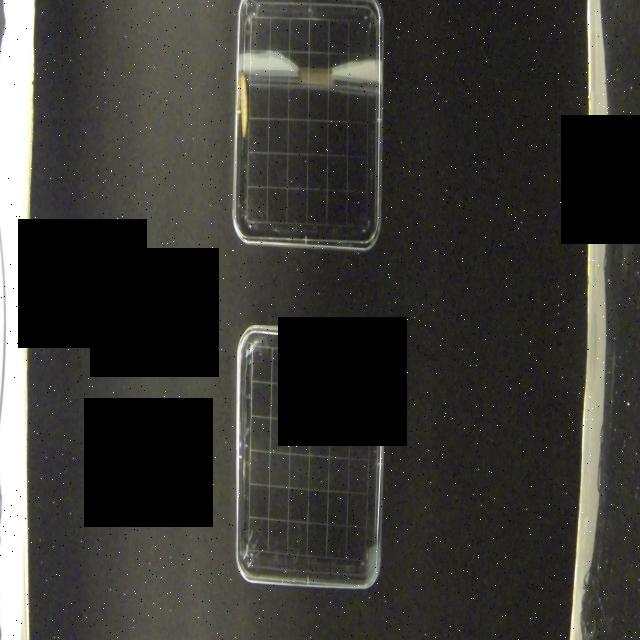larva: (237, 75, 251, 138), (283, 336, 318, 358)
